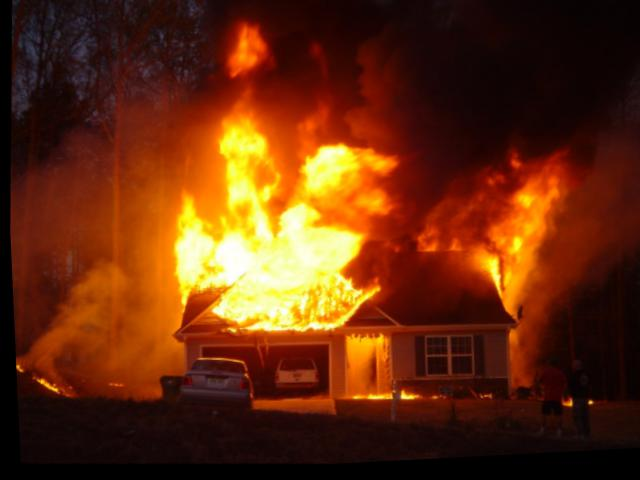fire: (11, 6, 599, 442)
